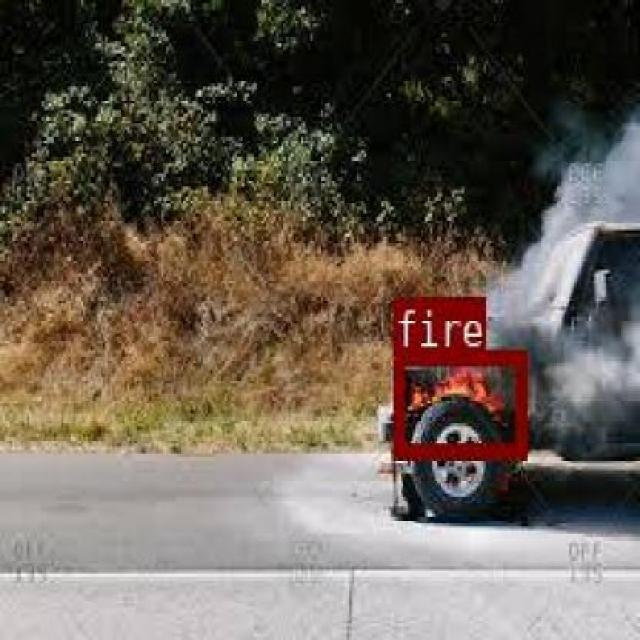Fire: (390, 348, 524, 454)
